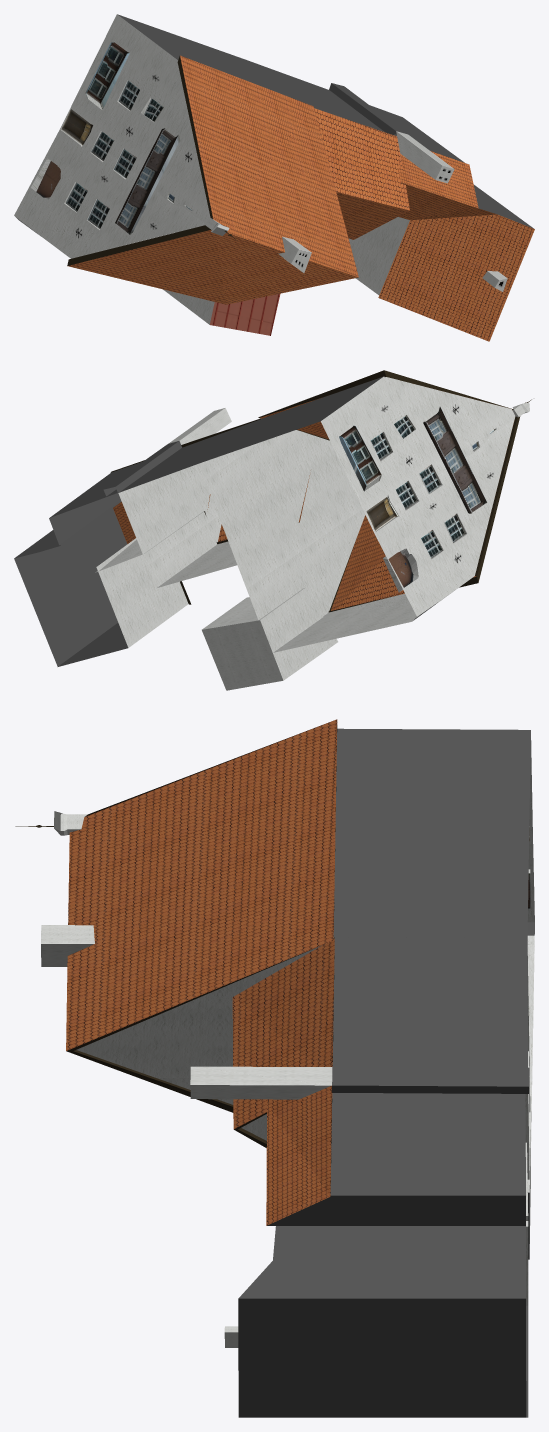
Rendered from Lai-38-origo.obj.
3 views of the same model, one above another, from view 1: azimuth 30°, elevation 25°; view 2: azimuth 150°, elevation 25°; view 3: azimuth 270°, elevation 25° (orthographic). The views are drawn at different scales.
Parts seen in each view (by area): view 1: Lai_38; view 2: Lai_38; view 3: Lai_38.
Part boxes in pixels (left/top/right/bottom): Lai_38: left=14, top=14, right=534, bottom=341; Lai_38: left=14, top=370, right=531, bottom=690; Lai_38: left=15, top=719, right=534, bottom=1417.
Size of the model in its own units: 35.25 by 26 by 24.77.
Materials: 8 (6 with a texture image).
